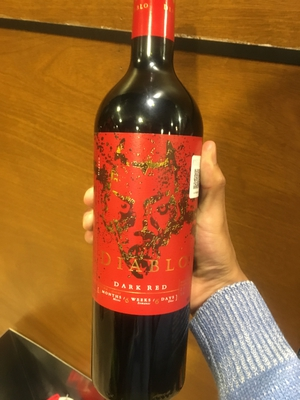diablo dark red: (80, 9, 216, 388)
